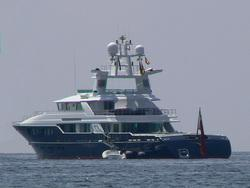yacht: (9, 37, 232, 157)
